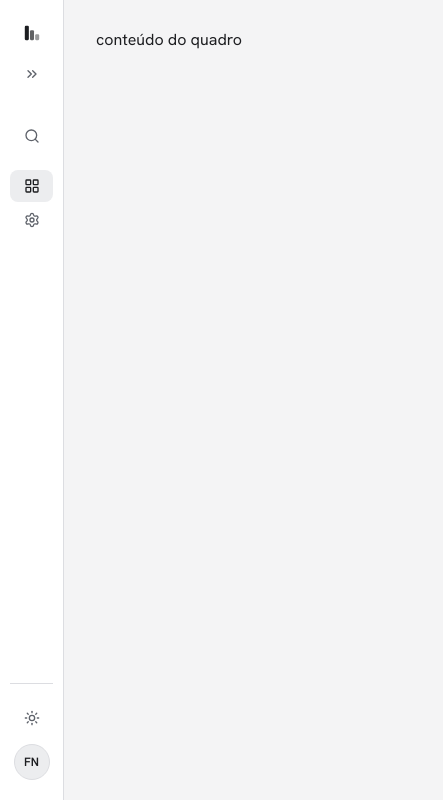
it: AppShell › na barra lateral o MCP é um subitem de Configurações, visível com o menu expandido
This screenshot has width=443, height=800.
Check: the link "MCP" is not shown
Click the button named "Expandir menu lateral" at [32, 74], box [16, 58, 48, 90]
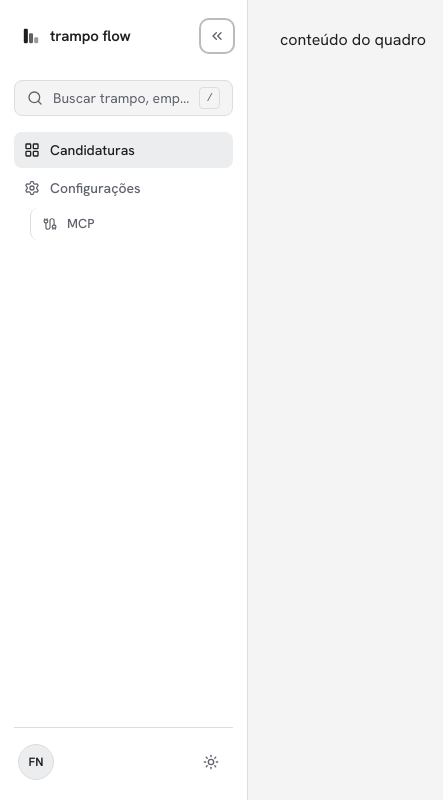
Click the link "MCP" at [132, 224], box [30, 208, 233, 240]
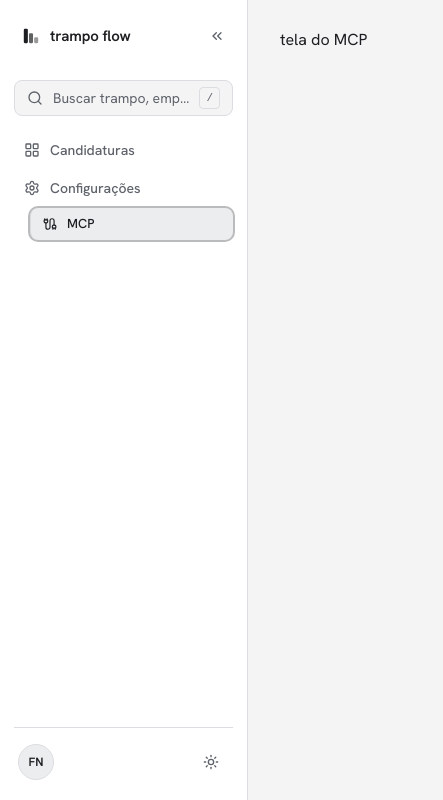
Check: the text "tela do MCP" is shown, box [280, 29, 367, 50]
